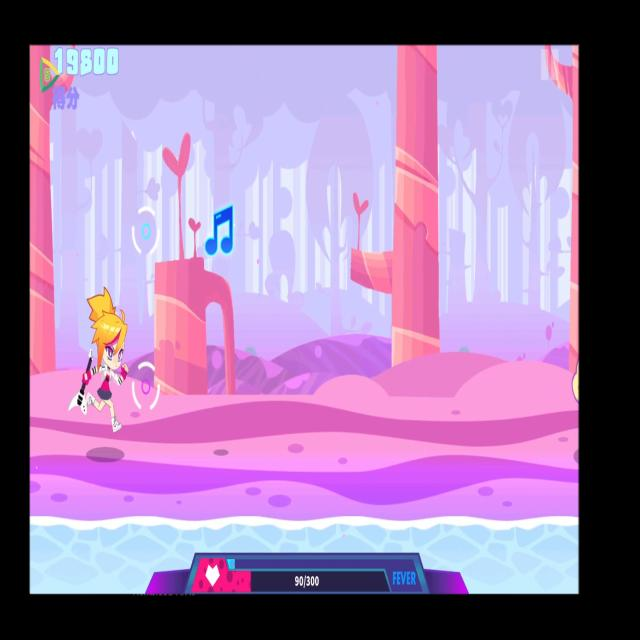incentive-blue Music note: (201, 201, 242, 263)
